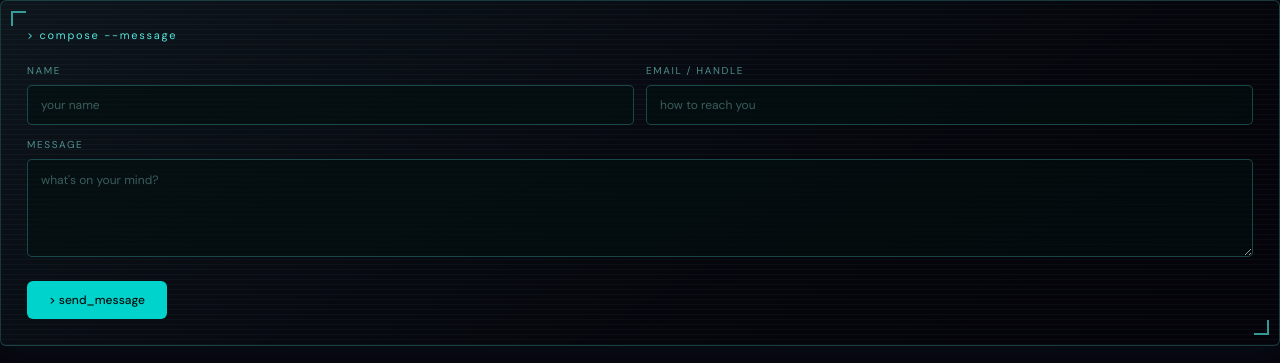
Scenario: ContactForm — submission › shows an error and keeps the form when the request fails
The width and height of the screenshot is (1280, 363).
Type "Jane" into the field labelled "NAME" at x=330, y=105, box x1=27 y1=85 x2=634 y2=125
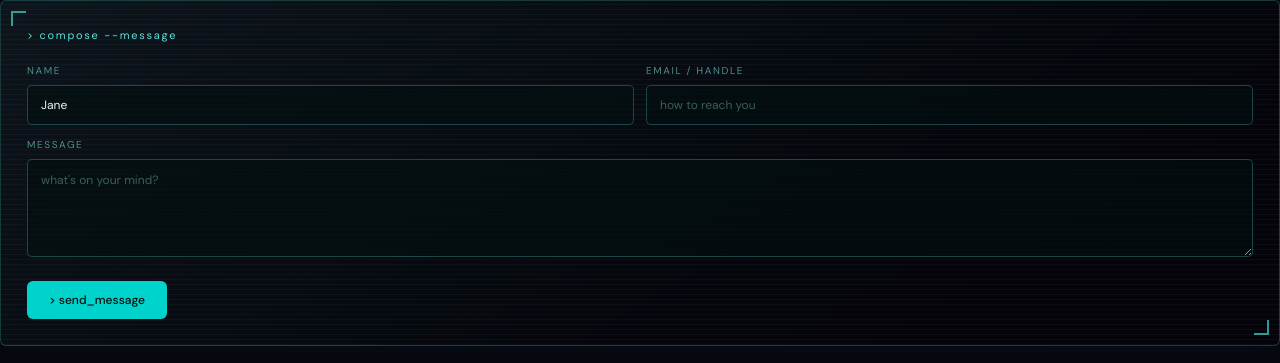
Type "Hello there" into the text box labelled "MESSAGE" at x=640, y=208, box x1=27 y1=159 x2=1253 y2=257
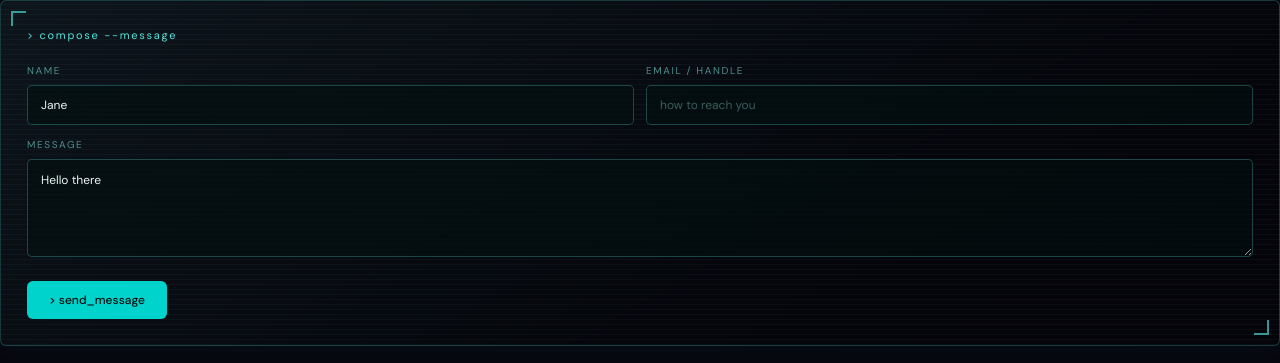
Submit the form with test id "contact-form"
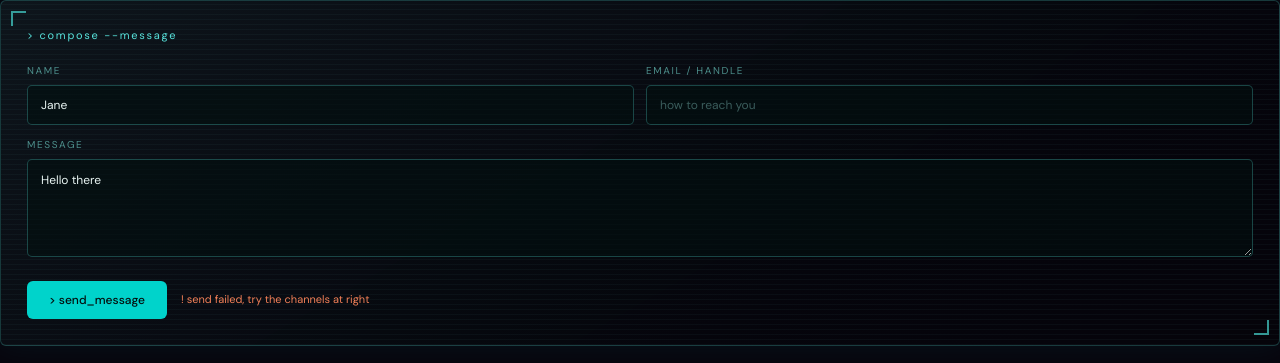
Now the text "! send failed, try the channels at right" is shown, box x1=181 y1=291 x2=369 y2=308
